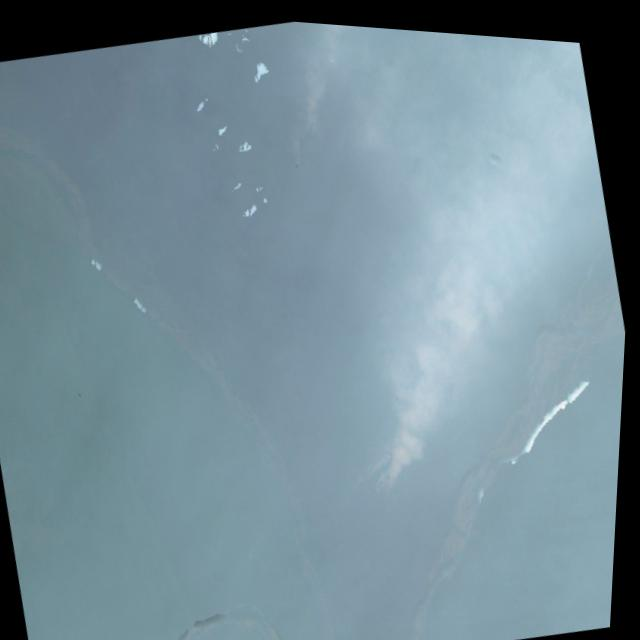fire: (337, 293, 519, 528), (262, 31, 383, 174)
